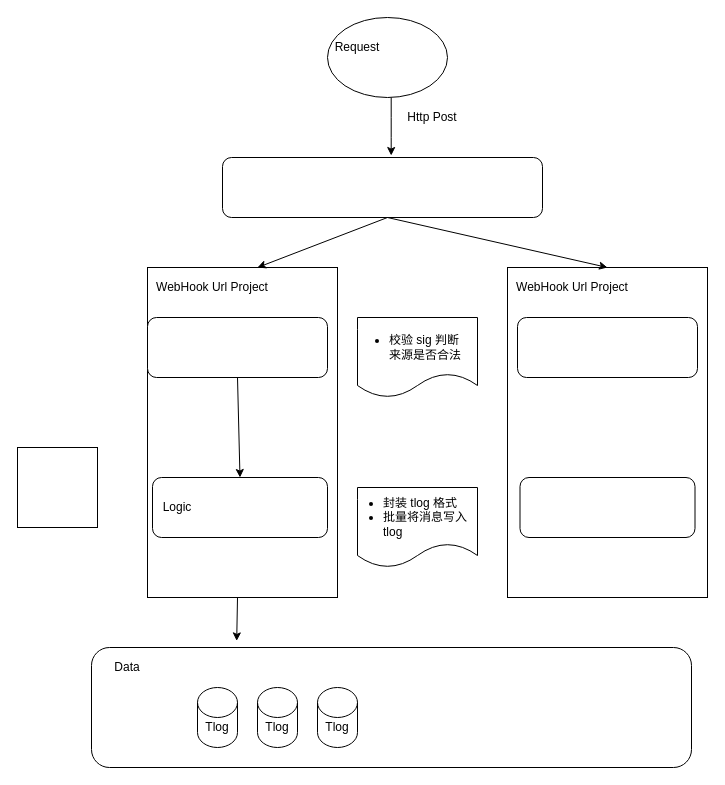
Image size: 725x785. Some labels were removed from this diagram. Each missing label, with the centre of its shape:
"monitor" goes at (57,487).
"Nginx 集群" goes at (382,187).
"Router" goes at (237,347).
